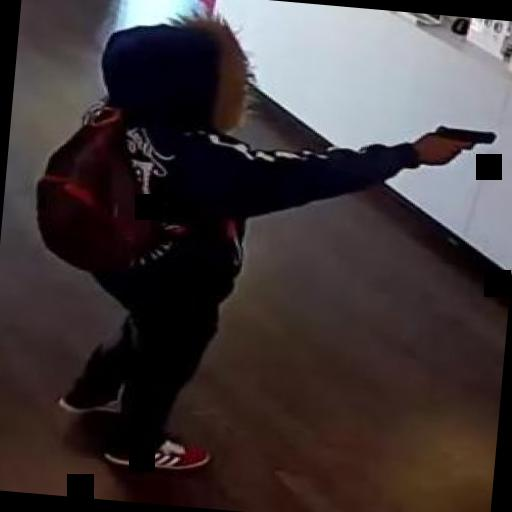Handgun: (425, 121, 498, 173)
